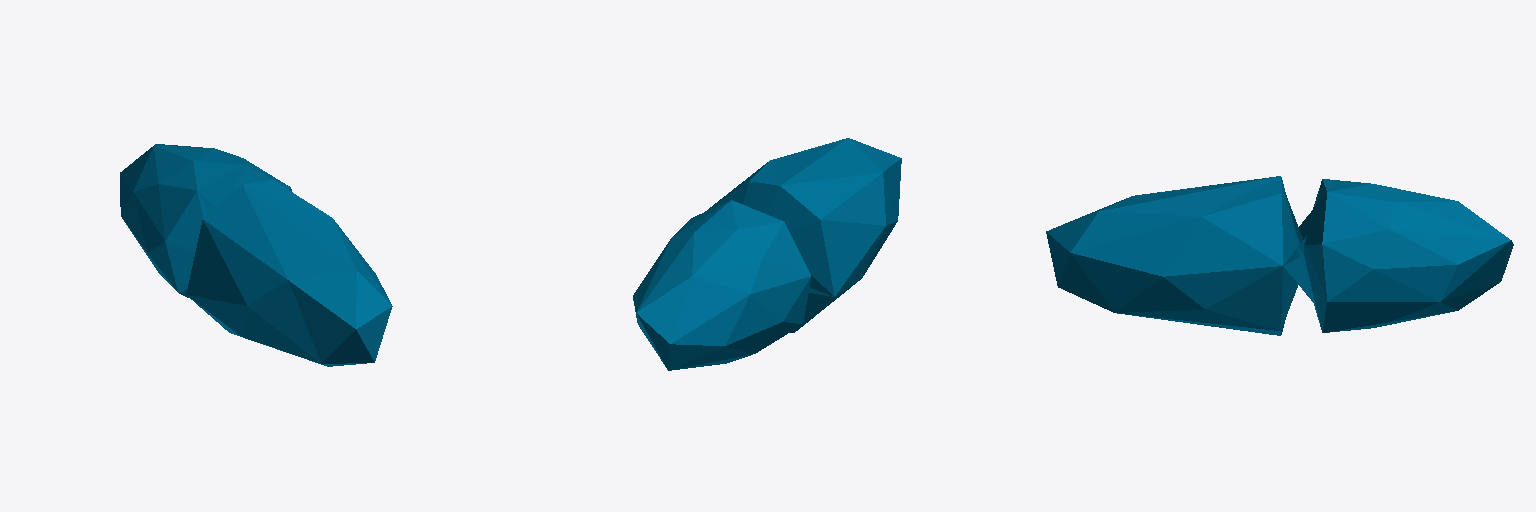
File: ice.obj
3 views of the same model, side by side, from view 1: azimuth 30°, elevation 25°; view 2: azimuth 150°, elevation 25°; view 3: azimuth 270°, elevation 25° (orthographic).
Bounding box in the file's own units: 0.6326 × 0.6532 × 1.88.